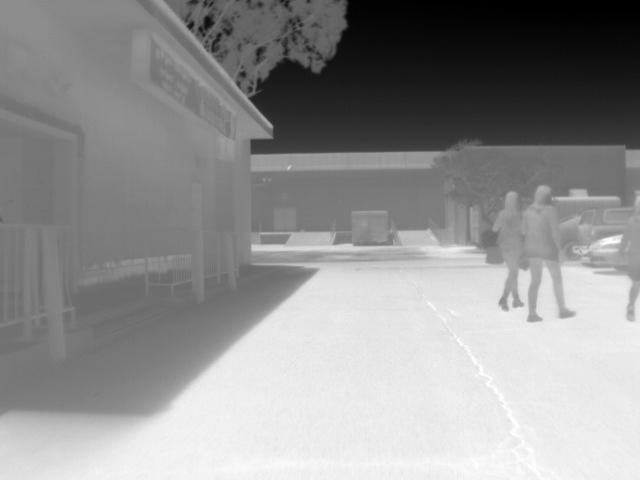car: (576, 205, 639, 246), (588, 232, 628, 273)
person: (526, 183, 575, 323), (494, 191, 526, 312), (620, 188, 640, 320)
